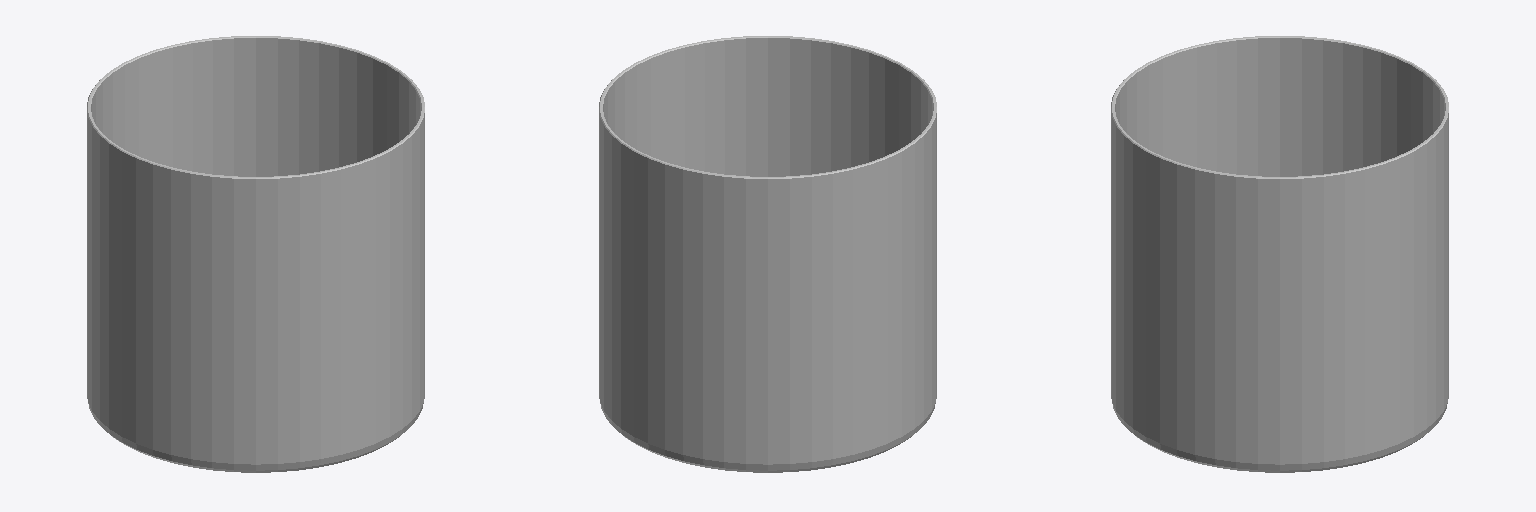
The model's file is tinbox.obj.
The picture shows the model from 3 angles: view 1: azimuth 30°, elevation 25°; view 2: azimuth 150°, elevation 25°; view 3: azimuth 270°, elevation 25°; orthographic projection.
Parts seen in each view (by area): view 1: TinCanBoxBase; view 2: TinCanBoxBase; view 3: TinCanBoxBase.
Part boxes in pixels (left/top/right/bottom): TinCanBoxBase: left=87, top=36, right=424, bottom=472; TinCanBoxBase: left=599, top=36, right=936, bottom=472; TinCanBoxBase: left=1111, top=36, right=1448, bottom=472.
Bounding box in the file's own units: 48.56 × 47.2 × 48.56.